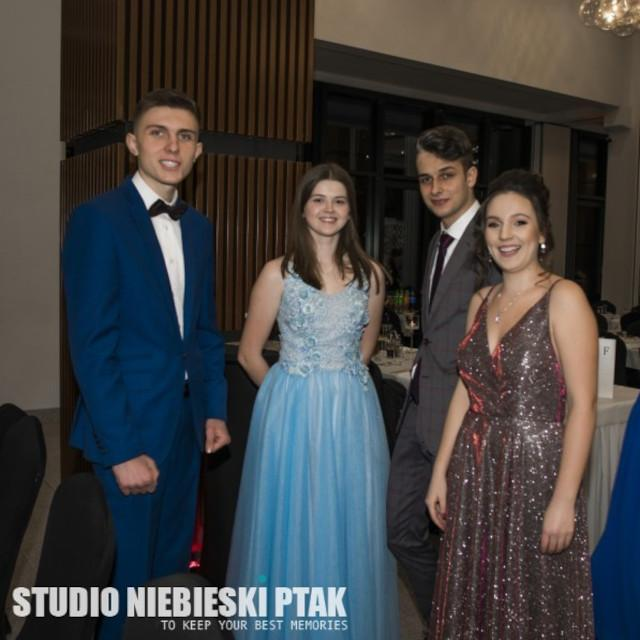kobieta: (439, 170, 601, 640), (240, 160, 393, 636)
mezczyzna: (78, 97, 234, 579), (405, 125, 487, 477)
